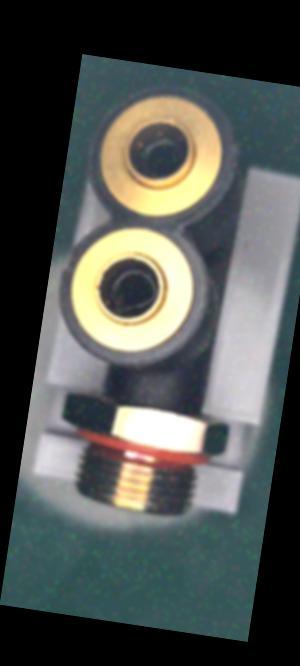bump: (61, 253, 75, 276)
off-centered: (101, 261, 164, 322)
white mark: (140, 387, 160, 404)
